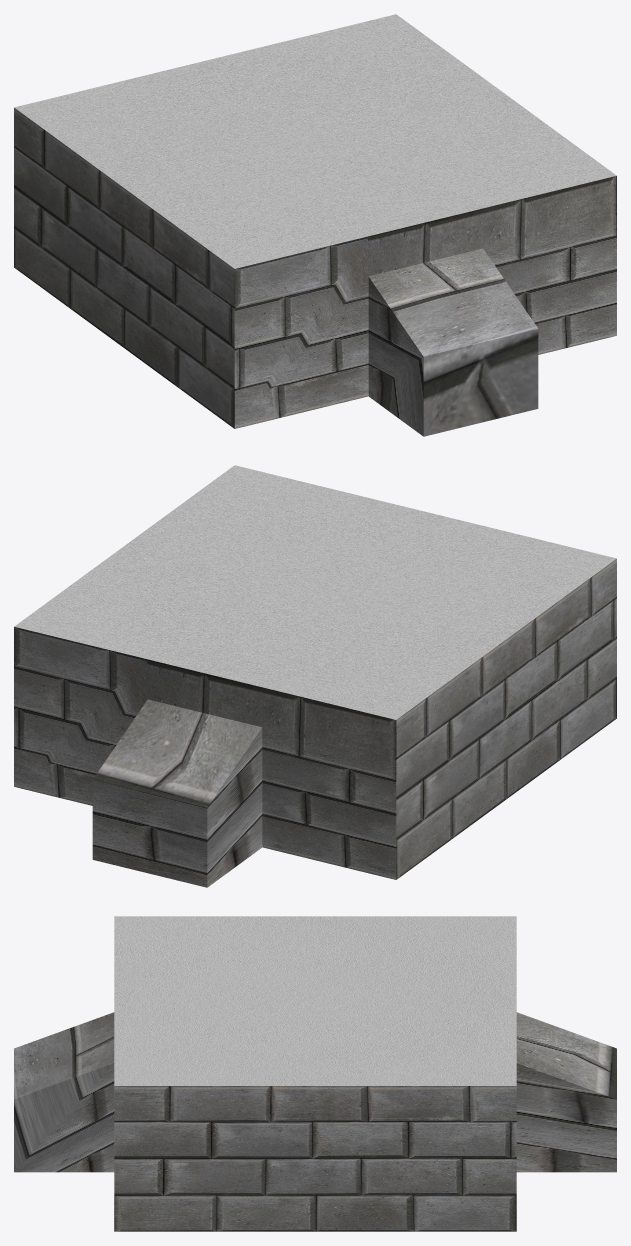
File: testarena.obj
The picture shows the model from 3 angles, top to bottom: view 1: azimuth 30°, elevation 25°; view 2: azimuth 150°, elevation 25°; view 3: azimuth 270°, elevation 25°; orthographic projection. The views are drawn at different scales.
Visible parts, largest first — view 1: Cube.006_Cube.007, Cube.004_Cube.006, Cube.005; view 2: Cube.006_Cube.007, Cube.002, Cube.005; view 3: Cube.006_Cube.007, Cube.003, Cube.002, Cube.004_Cube.006.
Boxes of the visible parts, x1,y1,x2,y2 form: Cube.006_Cube.007: [14, 14, 616, 268]; Cube.004_Cube.006: [234, 176, 616, 436]; Cube.005: [14, 108, 234, 428]; Cube.006_Cube.007: [14, 465, 616, 719]; Cube.002: [14, 627, 396, 887]; Cube.005: [396, 559, 616, 879]; Cube.006_Cube.007: [114, 916, 516, 1085]; Cube.003: [114, 1086, 516, 1231]; Cube.002: [516, 1012, 616, 1172]; Cube.004_Cube.006: [14, 1012, 114, 1172].
Bounding box in the file's own units: 20 × 8 × 30.
